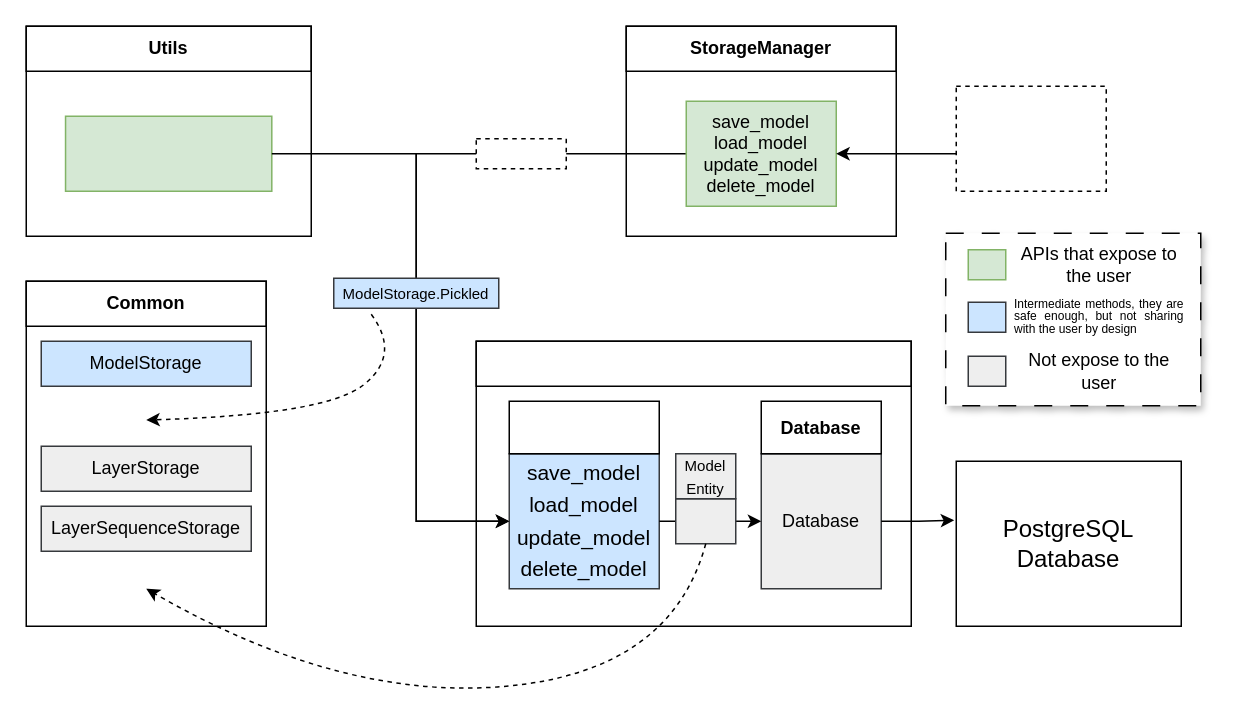
The diagram is 1236 pixels wide and 716 high, and some of its shapes have lost their labels. The shapes that lost their labels are listed below. From the top down, each one's centre as x and y in pixels, then its label:
At (168,153): "ModelSerializer".
At (520,153): "Module.nn".
At (1030,138): "PyTorch Models".
At (693,363): "SQL".
At (583,427): "NeurDB".
At (705,520): "Layer Entity".
